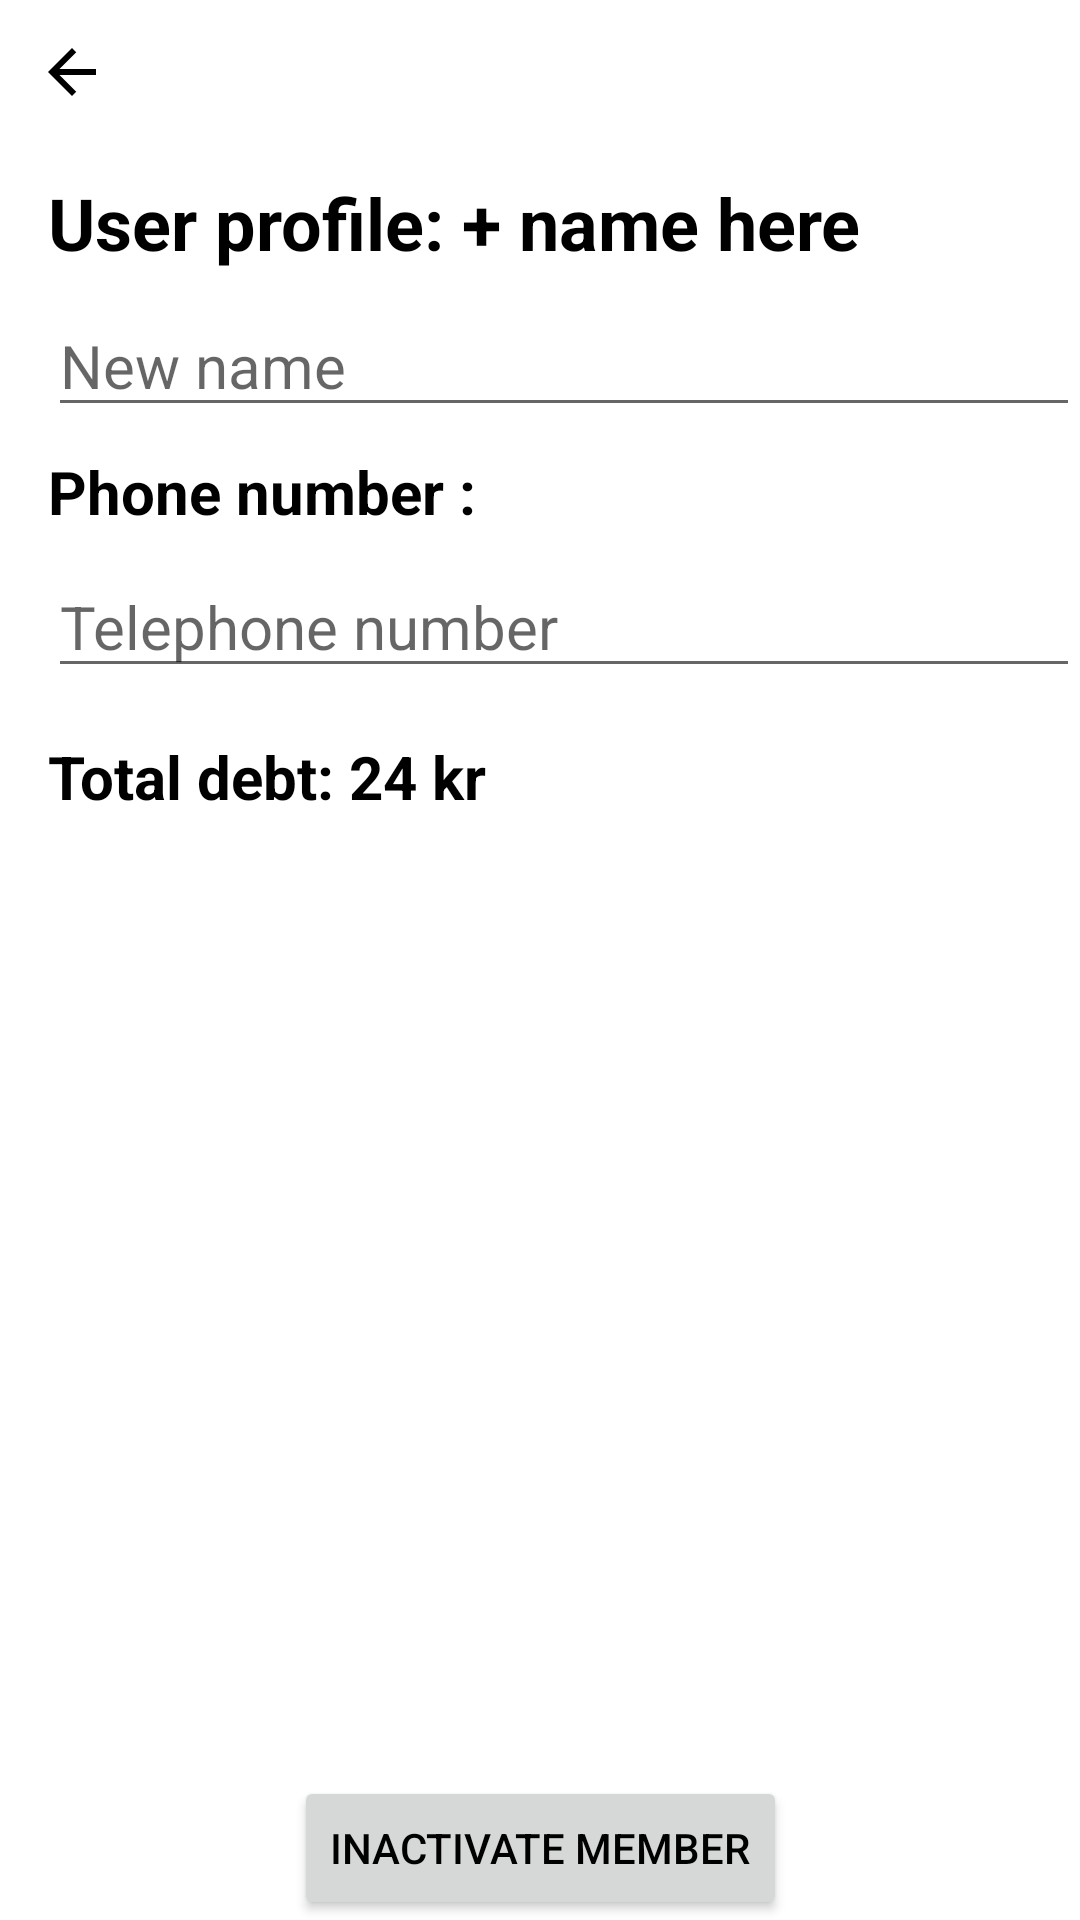

Icon bounding boxes for this 1080w x 1920h phone screenshot, format (x1, y1, x2, y2):
arrow back: (48, 48, 96, 96)
